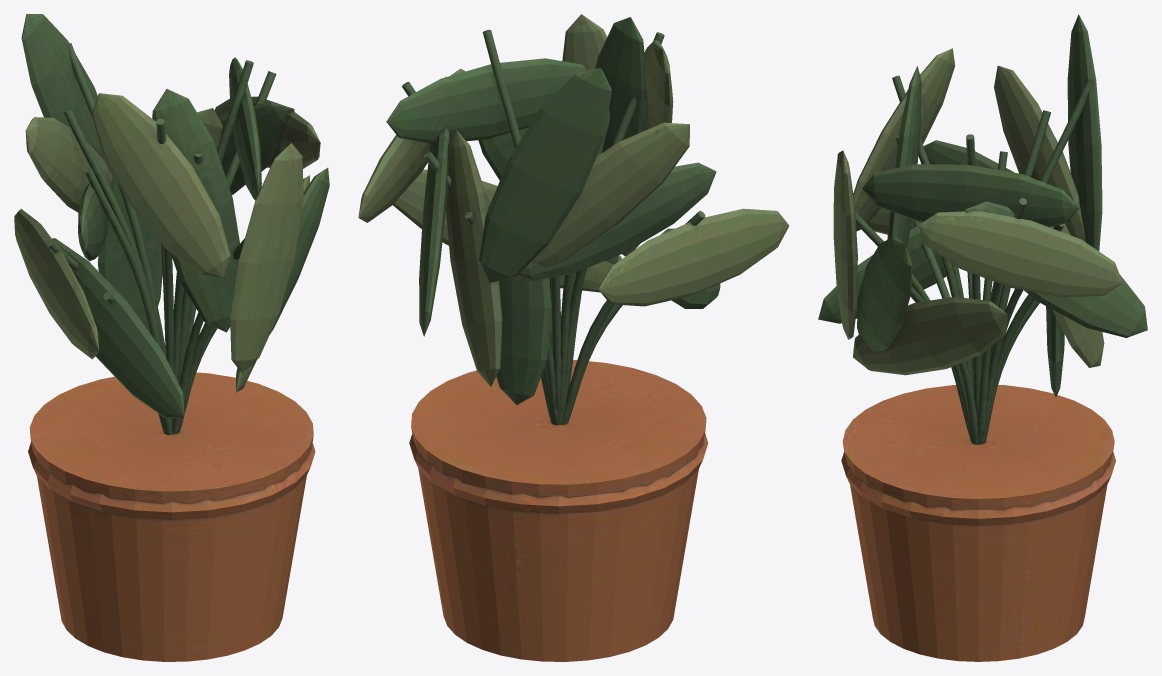
The model's file is dressing-plant.glb.
3 views of the same model, side by side, from view 1: azimuth 30°, elevation 25°; view 2: azimuth 150°, elevation 25°; view 3: azimuth 270°, elevation 25° (orthographic). The views are drawn at different scales.
Visible parts, largest first — view 1: case-baked; view 2: case-baked; view 3: case-baked.
Part boxes in pixels (bbox=[...]): case-baked: bbox=[14, 14, 329, 661]; case-baked: bbox=[358, 14, 789, 661]; case-baked: bbox=[818, 14, 1147, 661].
Bounding box in the file's own units: 0.4041 × 0.7489 × 0.3999.
Materials: 1 (1 with a texture image).
